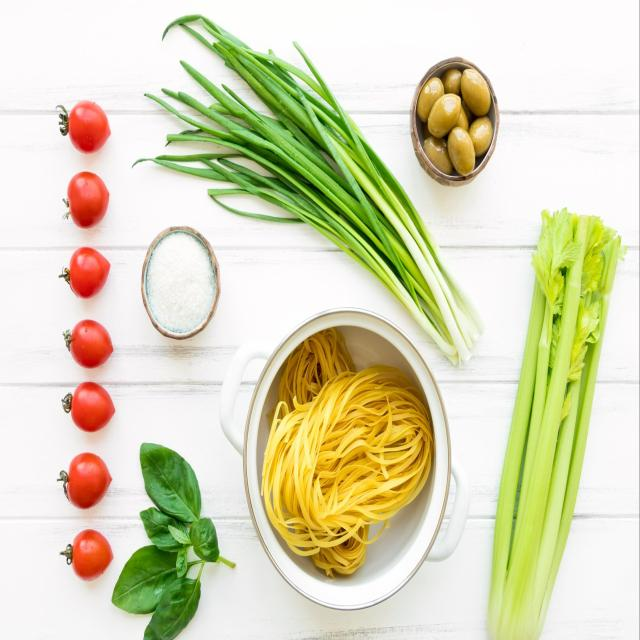celery: (480, 183, 627, 640)
